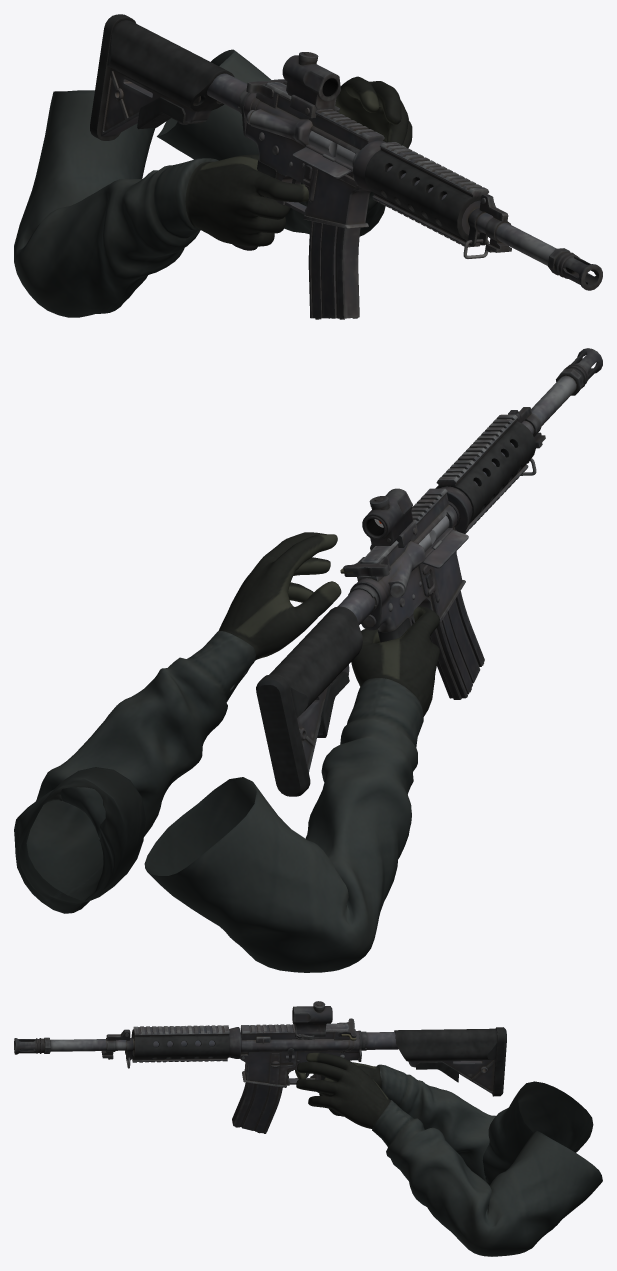
The model's file is gun_000123.obj.
3 renders of one model, top to bottom at view 1: azimuth 30°, elevation 25°; view 2: azimuth 150°, elevation 25°; view 3: azimuth 270°, elevation 25°, orthographic. The views are drawn at different scales.
Visible parts, largest first — view 1: armmesh_arms_0, base_carbine_0, clip_carbine_0, scope_carbine_0, lid_carbine_0, bolt_carbine_0, handle_carbine_0; view 2: armmesh_arms_0, base_carbine_0, clip_carbine_0, scope_carbine_0, lid_carbine_0; view 3: armmesh_arms_0, base_carbine_0, clip_carbine_0, scope_carbine_0.
Boxes of the visible parts, left/top/right/bottom form: armmesh_arms_0: left=14, top=49, right=412, bottom=317; base_carbine_0: left=90, top=14, right=602, bottom=290; clip_carbine_0: left=308, top=221, right=360, bottom=319; scope_carbine_0: left=282, top=52, right=340, bottom=118; lid_carbine_0: left=292, top=147, right=351, bottom=178; bolt_carbine_0: left=309, top=131, right=355, bottom=166; handle_carbine_0: left=246, top=79, right=287, bottom=98; armmesh_arms_0: left=14, top=532, right=439, bottom=972; base_carbine_0: left=256, top=348, right=602, bottom=796; clip_carbine_0: left=430, top=591, right=484, bottom=699; scope_carbine_0: left=362, top=488, right=417, bottom=550; lid_carbine_0: left=422, top=530, right=468, bottom=568; armmesh_arms_0: left=295, top=1052, right=602, bottom=1256; base_carbine_0: left=14, top=1023, right=506, bottom=1116; clip_carbine_0: left=232, top=1082, right=282, bottom=1133; scope_carbine_0: left=292, top=1001, right=332, bottom=1039.
Size of the model in its own units: 50.87 by 47.46 by 120.
